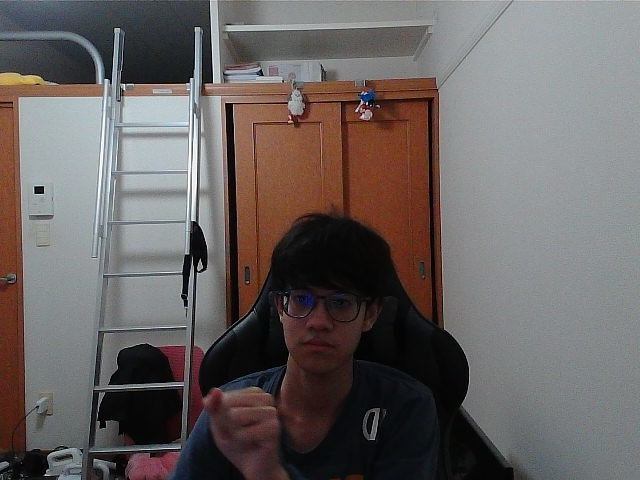closed_palm: (216, 396, 271, 463)
